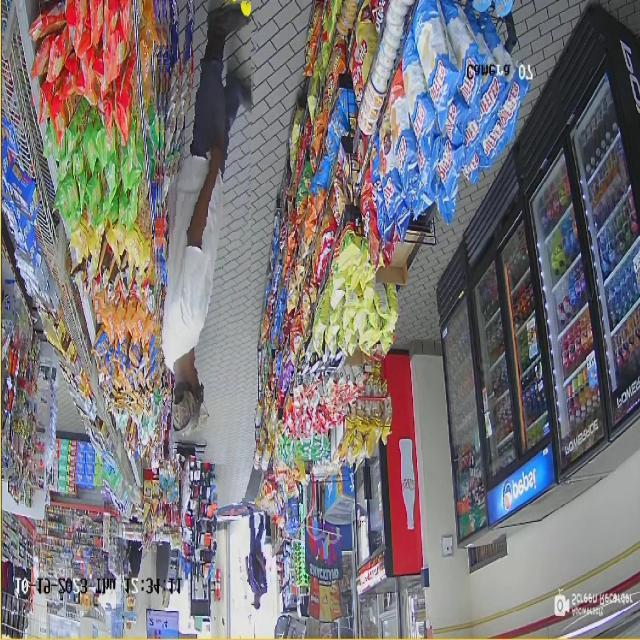Normal: (155, 0, 251, 464), (242, 498, 274, 616)
